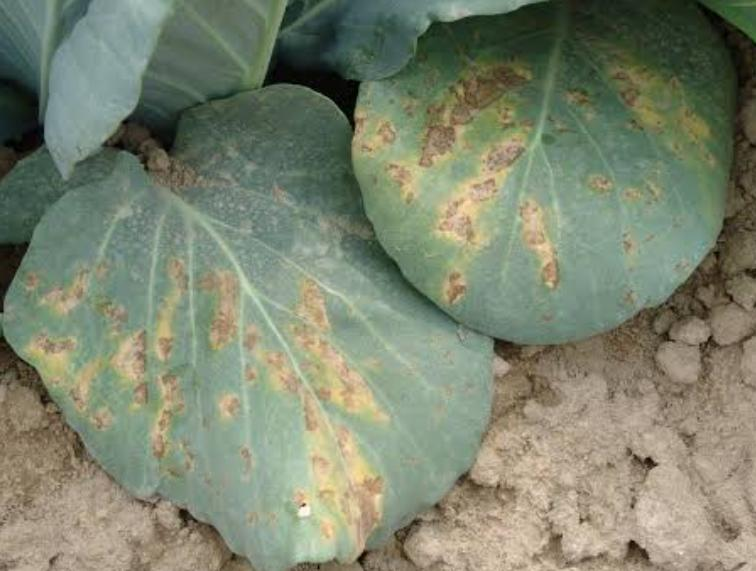Bok-Choy-Diseased: (18, 105, 458, 571), (365, 9, 705, 291)
